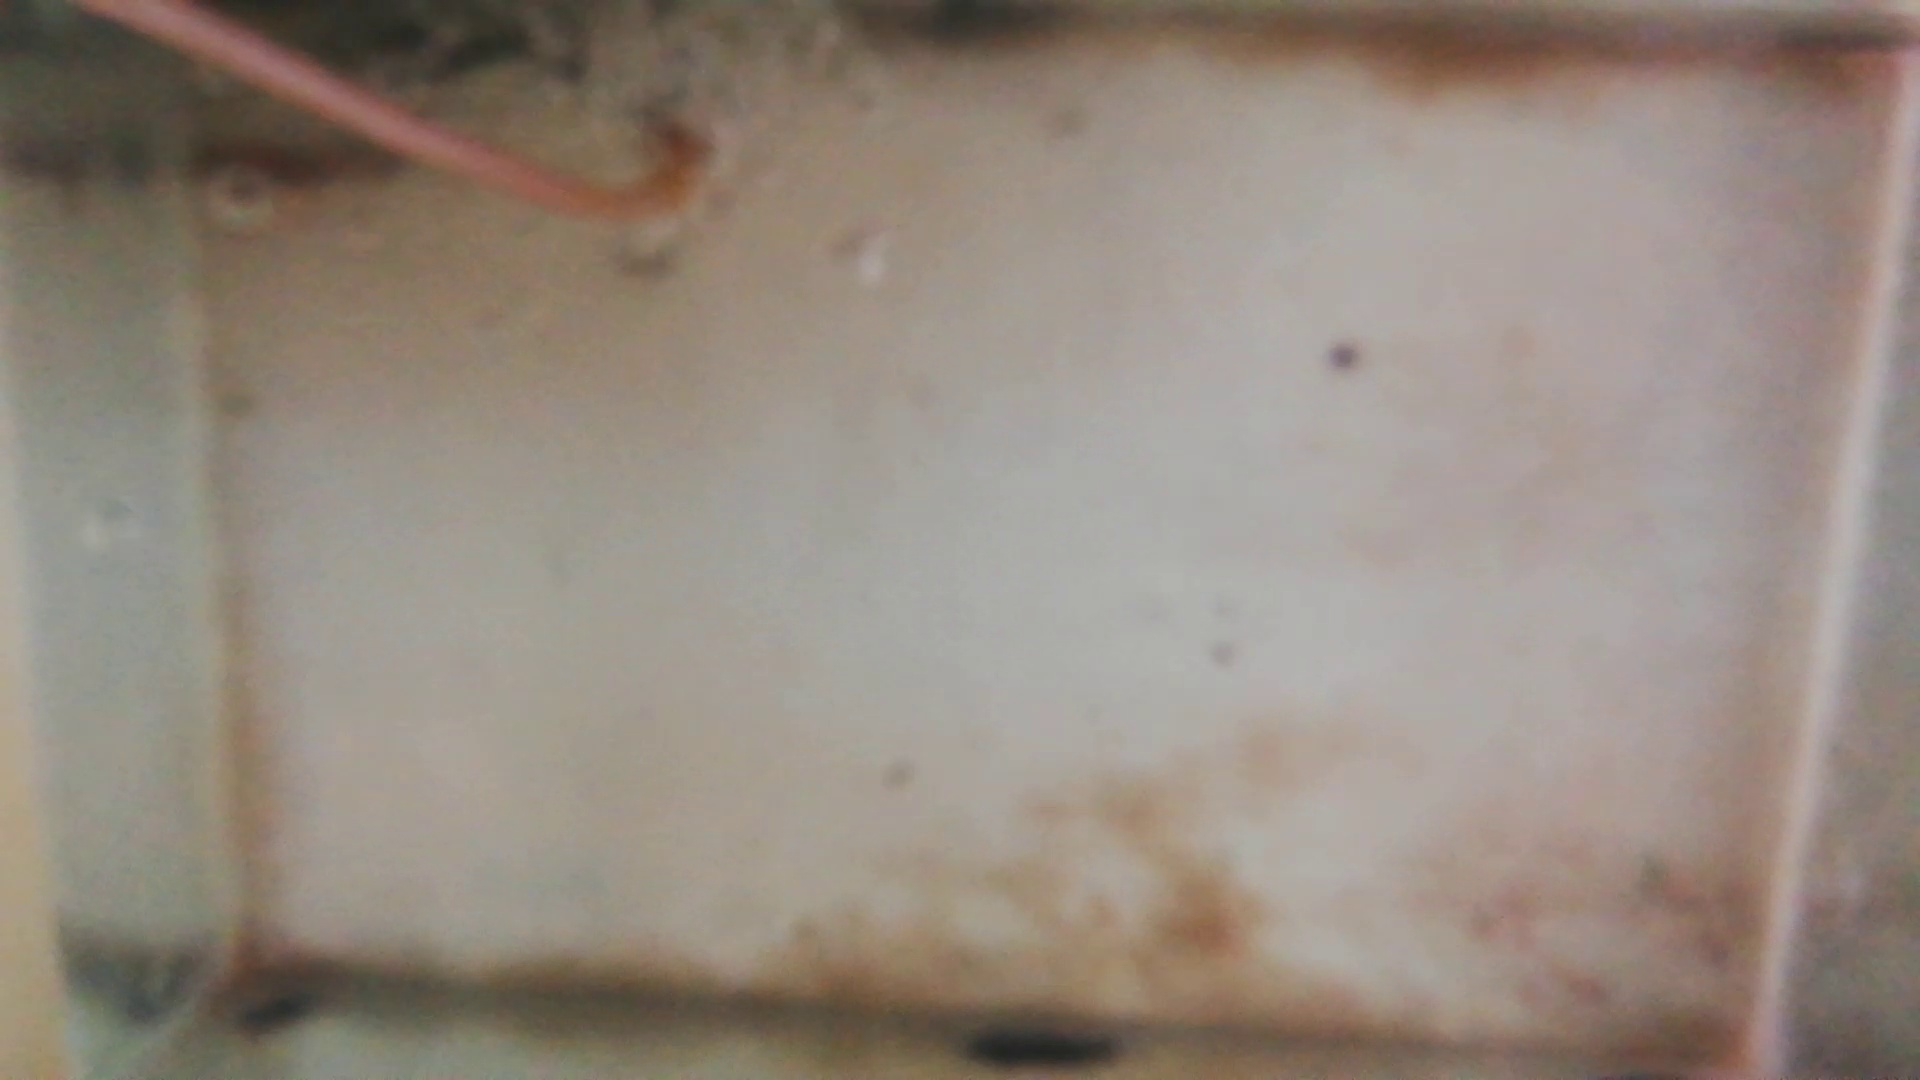fish: (178, 138, 380, 186)
